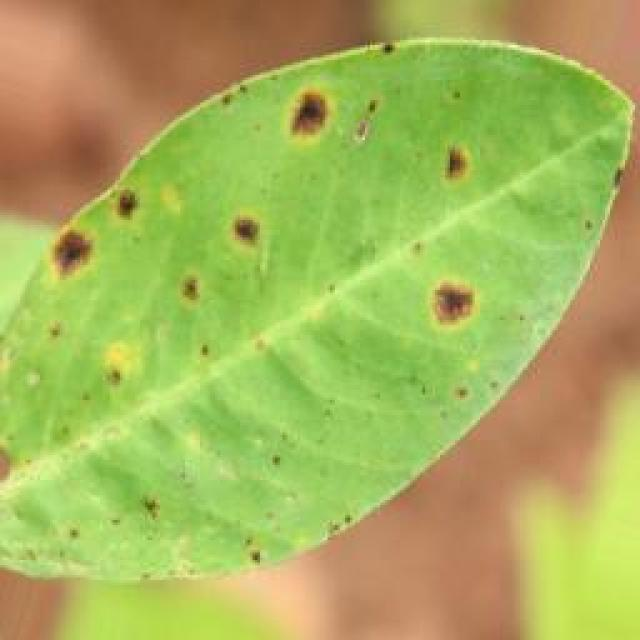Yellowish: (7, 5, 640, 542)
